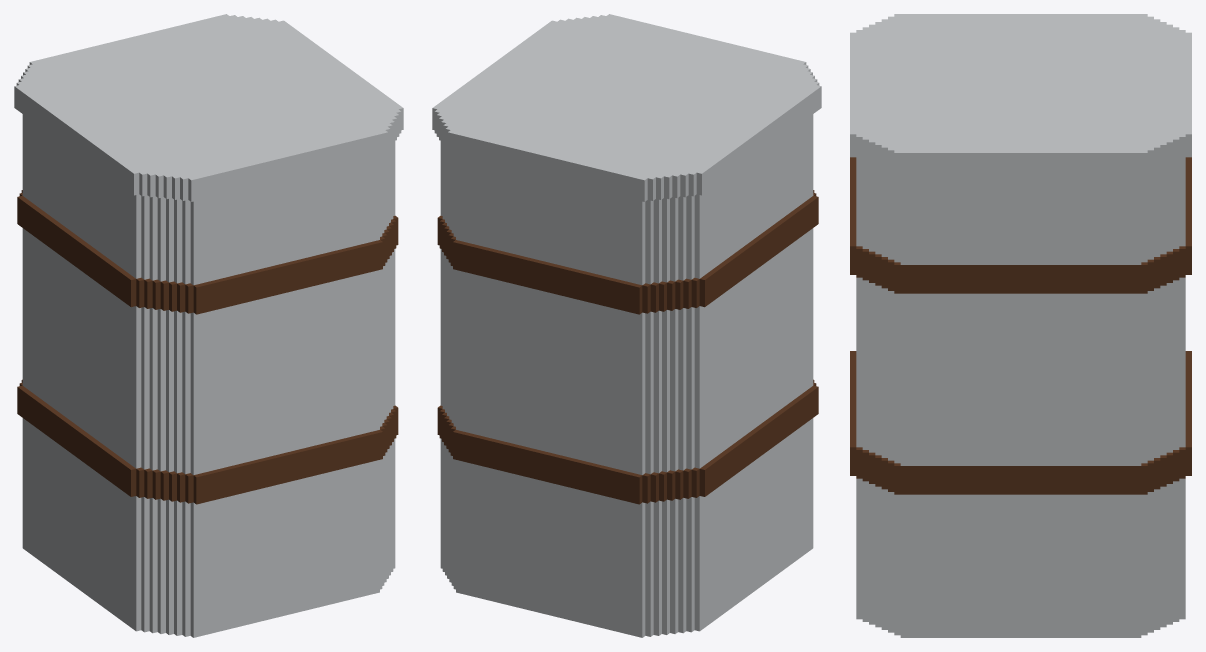
The model's file is legguard_lightplate_worn_thigh.glb.
3 renders of one model, left to right at view 1: azimuth 30°, elevation 25°; view 2: azimuth 150°, elevation 25°; view 3: azimuth 270°, elevation 25°, orthographic. The views are drawn at different scales.
Visible parts, largest first — view 1: legguard_lightplate_worn_thigh:compound; view 2: legguard_lightplate_worn_thigh:compound; view 3: legguard_lightplate_worn_thigh:compound.
Boxes of the visible parts, x1=… form: legguard_lightplate_worn_thigh:compound: x1=14, y1=14, x2=403, y2=637; legguard_lightplate_worn_thigh:compound: x1=432, y1=14, x2=821, y2=637; legguard_lightplate_worn_thigh:compound: x1=850, y1=14, x2=1191, y2=637.
Size of the model in its own units: 0.208 by 0.34 by 0.216.
